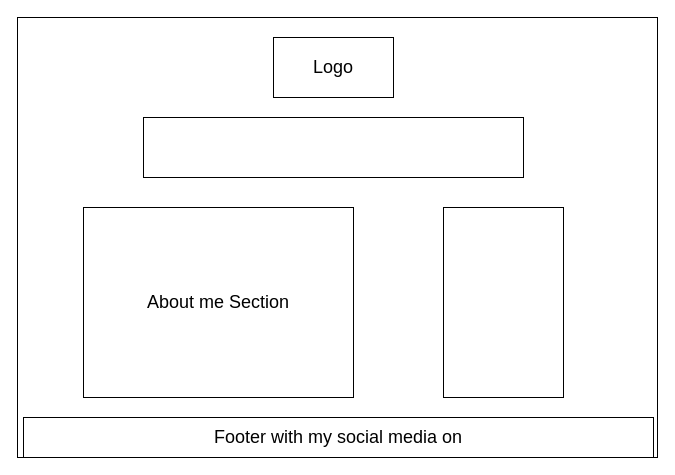
Some shapes in this 675 by 475 pixel diagram are drawn without their labels. The shapes that lost their labels are listed below. From the top down, each one's centre as x and y in pixels, then its label:
At (x=333, y=147): "Navigation Bar Home Projects Contact".
At (x=503, y=302): "Skills".
